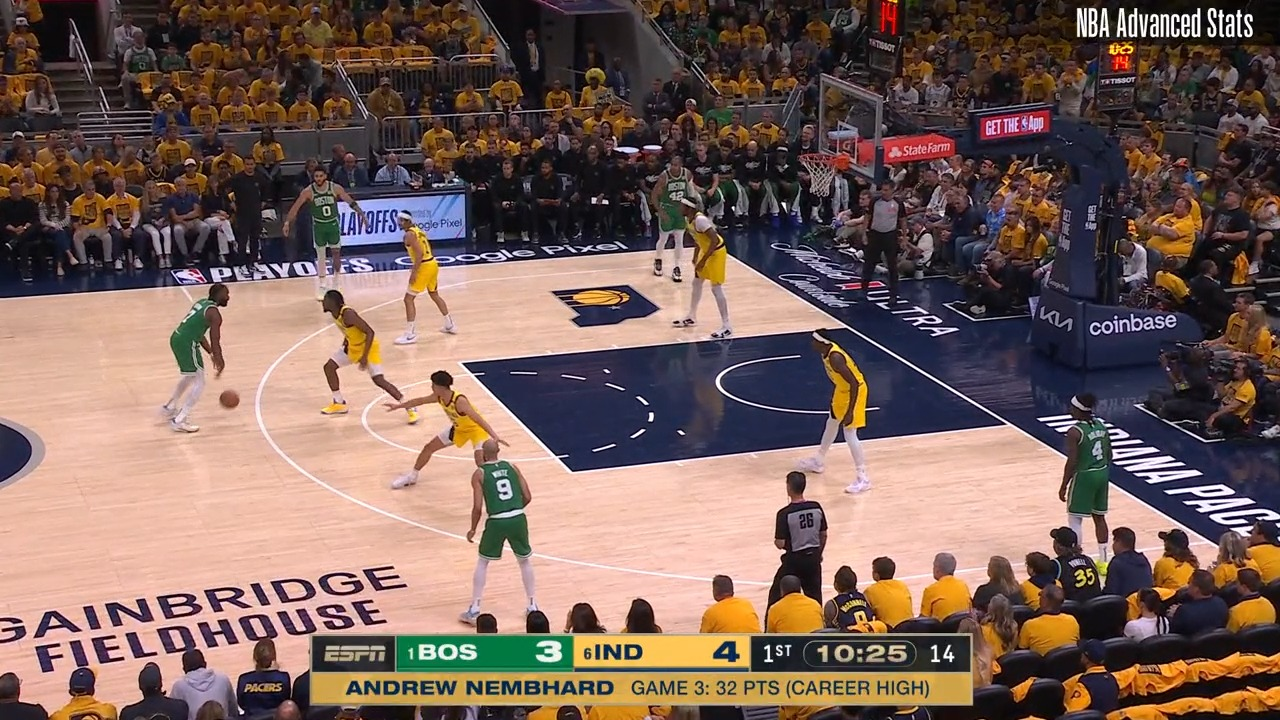basketball: (214, 384, 244, 413)
